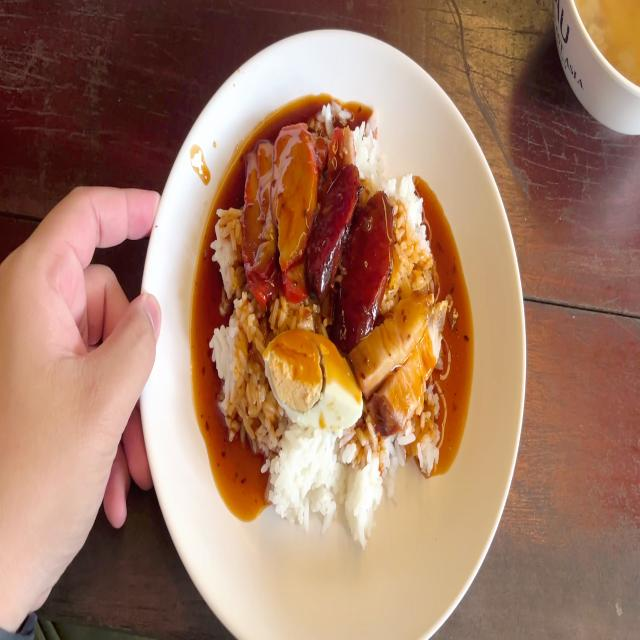boiled_egg: (264, 332, 366, 434)
chainese_sausage: (312, 168, 389, 345), (345, 196, 390, 340), (312, 160, 355, 286)
crispy_pork: (359, 294, 445, 418), (390, 300, 448, 418), (358, 294, 430, 379)
red_pork: (243, 130, 314, 302), (276, 120, 314, 271), (244, 146, 274, 283), (331, 128, 356, 165)
red_pork_and_crispy_pork: (205, 99, 454, 535)
rice: (270, 436, 393, 536), (208, 201, 247, 437), (244, 379, 277, 461)
